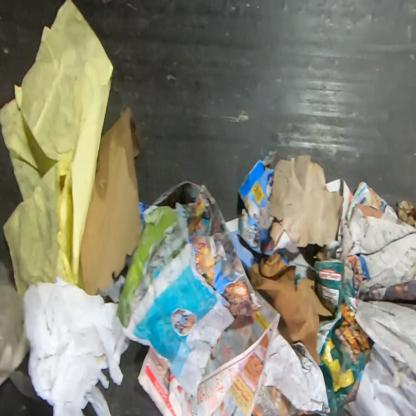cardboard: (79, 106, 143, 296), (247, 252, 334, 366), (314, 257, 375, 413), (269, 154, 344, 248), (236, 154, 277, 255)
soft_plastic: (22, 276, 132, 415), (0, 260, 50, 409)
